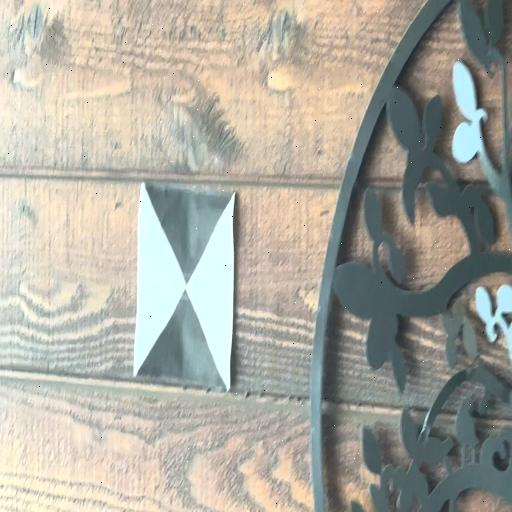target: (131, 182, 236, 388)
